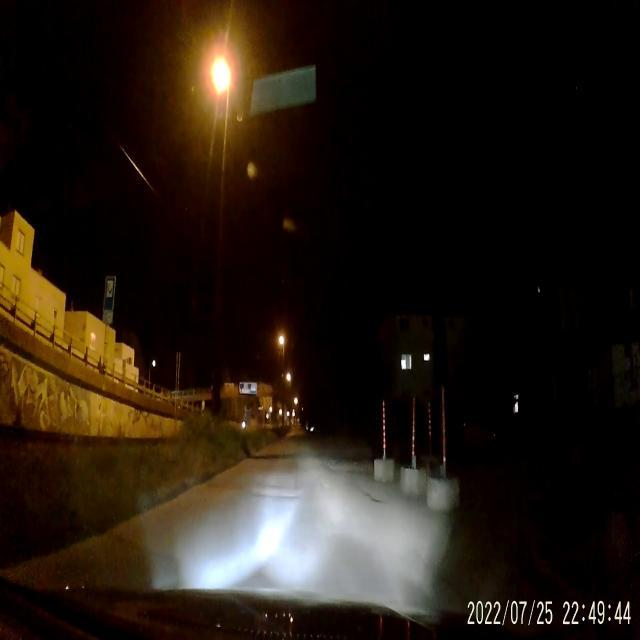Pothole: (358, 486, 391, 510)
